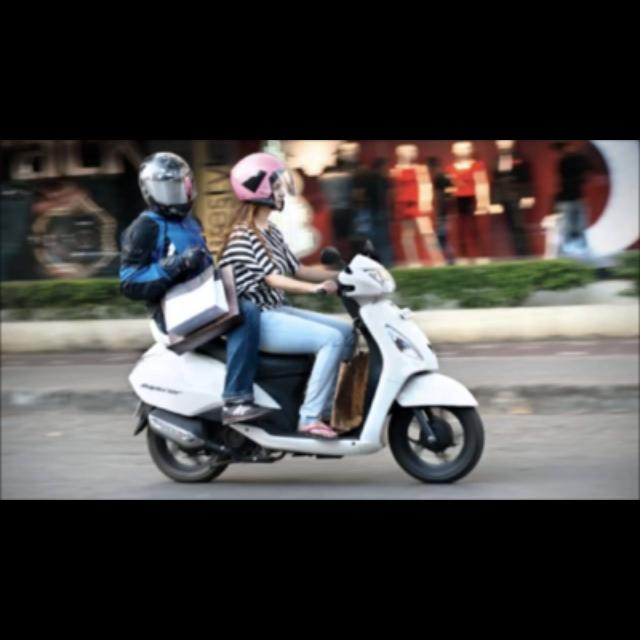With Helmet: (222, 147, 304, 216), (133, 150, 199, 218)
